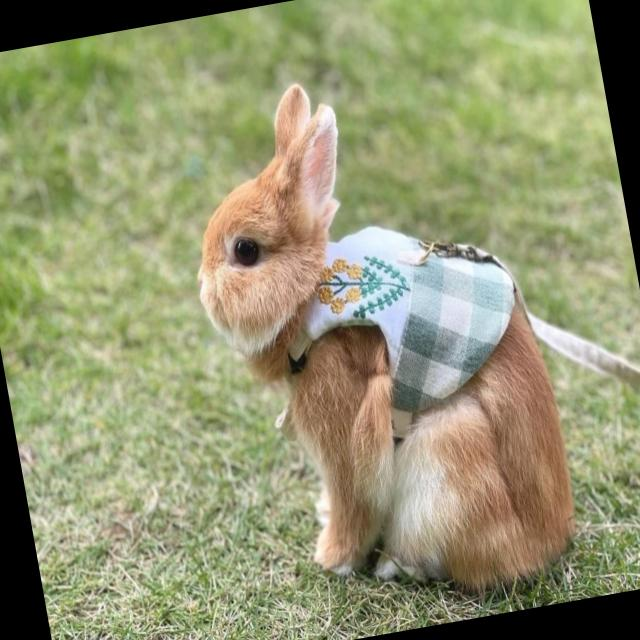Animals: (144, 29, 501, 558)
